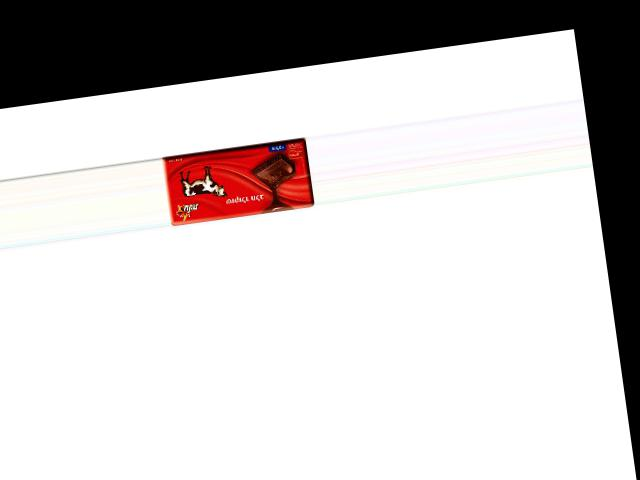chocolate: (160, 137, 315, 226)
